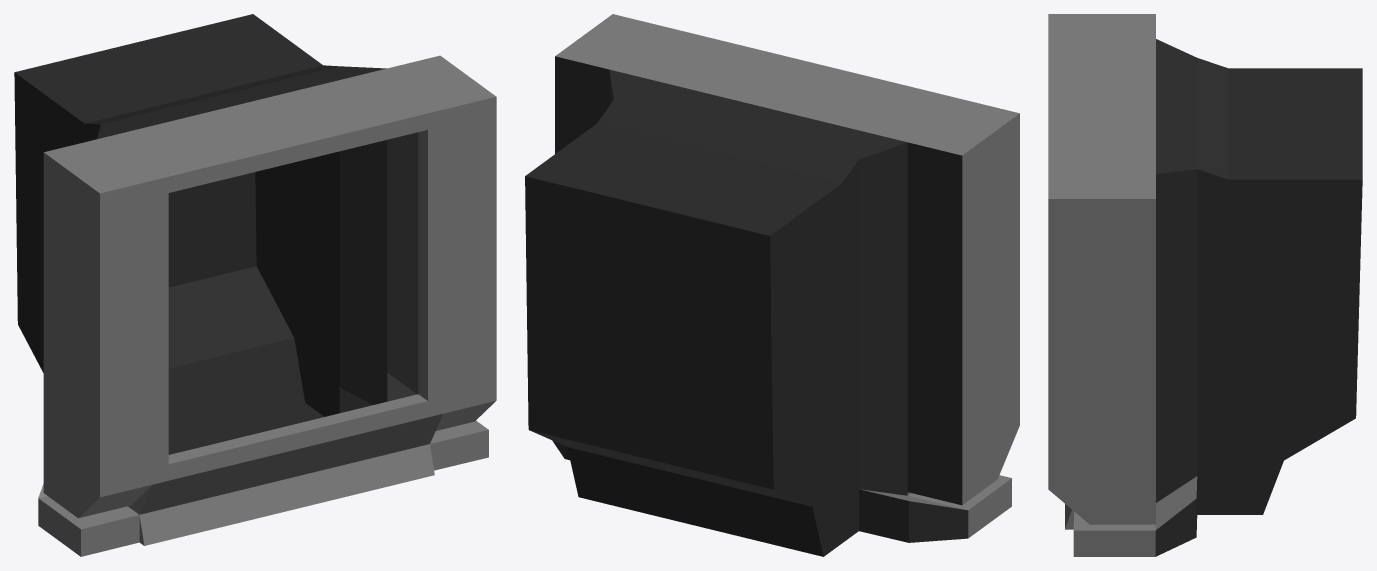
File: TelevisaoTubo.fbx
3 renders of one model, left to right at view 1: azimuth 30°, elevation 25°; view 2: azimuth 150°, elevation 25°; view 3: azimuth 270°, elevation 25°, orthographic. The views are drawn at different scales.
Visible parts, largest first — view 1: TV_Media; view 2: TV_Media; view 3: TV_Media.
Part boxes in pixels (bbox=[...]): TV_Media: bbox=[14, 14, 496, 556]; TV_Media: bbox=[525, 14, 1019, 556]; TV_Media: bbox=[1048, 14, 1362, 556].
Bounding box in the file's own units: 99.8 × 86.94 × 69.7.
1 material, 1 textured.
